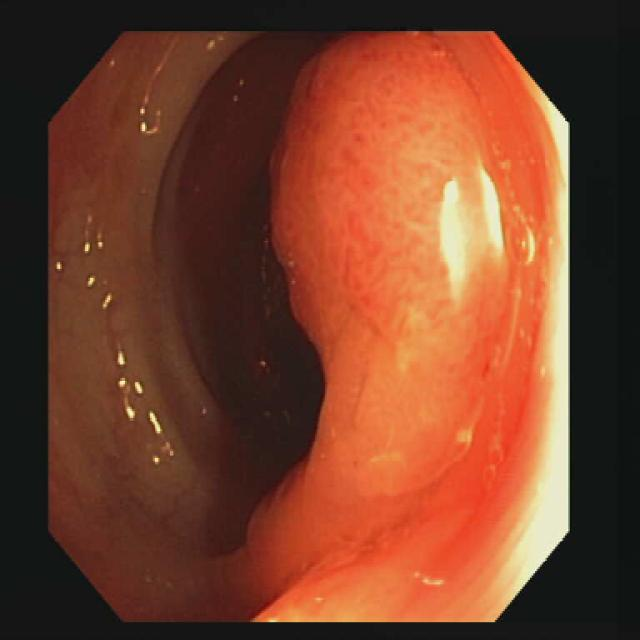tumor: (243, 33, 563, 620)
